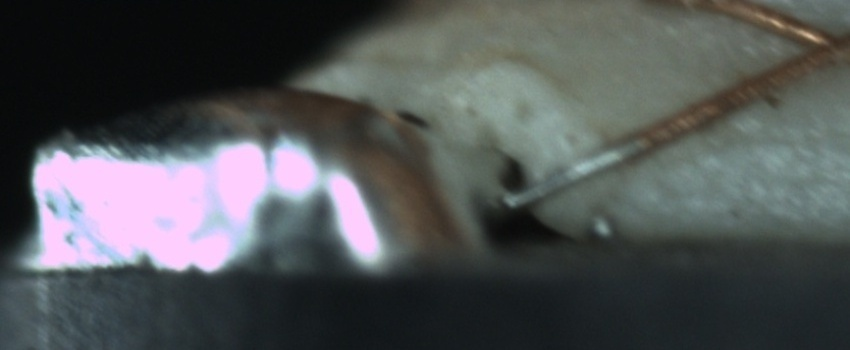CL: (777, 13, 849, 77)
DL: (694, 107, 848, 174)
TS: (499, 136, 643, 209)
